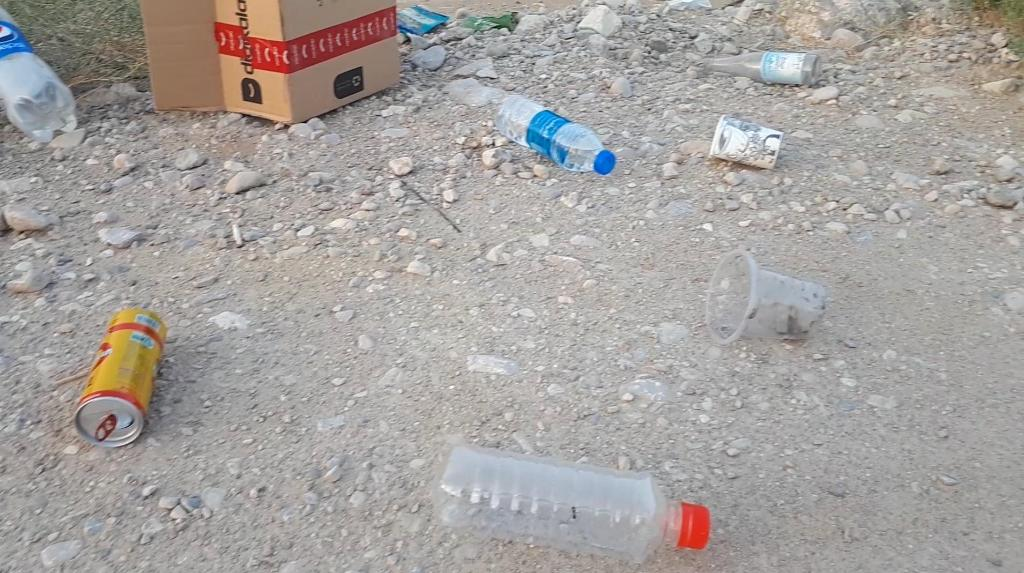garbage: (411, 432, 743, 573), (136, 0, 447, 137), (432, 443, 710, 562), (68, 285, 184, 456), (0, 0, 113, 163), (486, 83, 626, 200), (74, 308, 167, 448), (0, 7, 77, 143), (495, 95, 615, 175), (686, 43, 844, 98), (712, 112, 804, 182), (704, 51, 820, 85)
